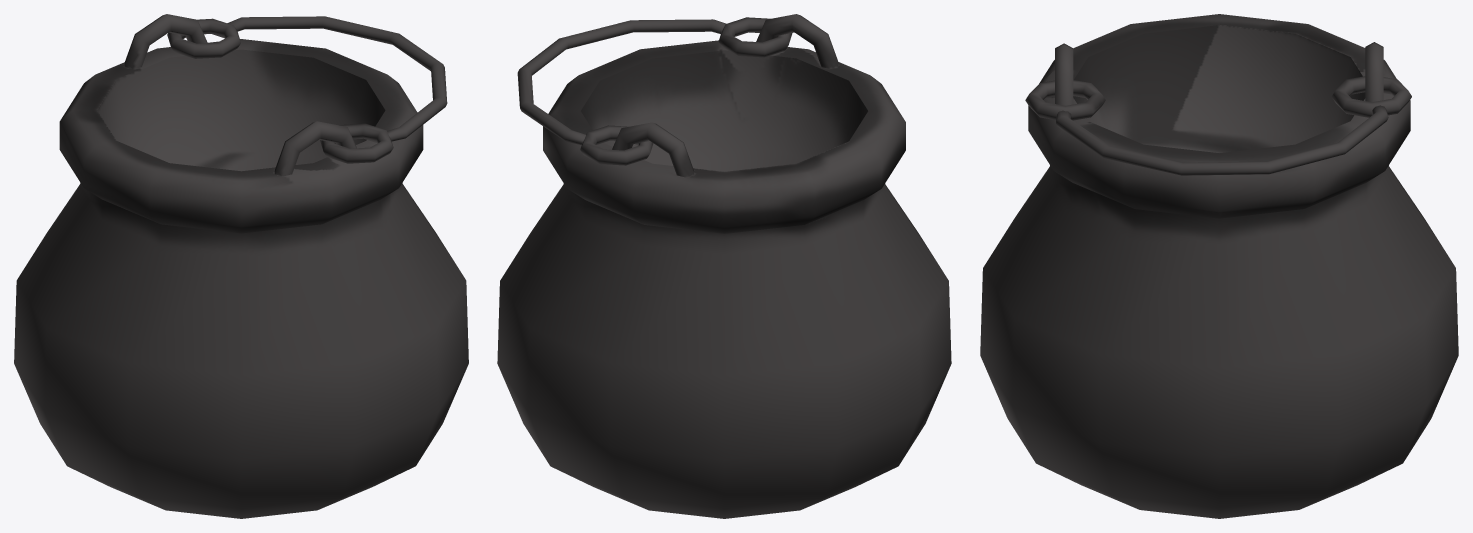
File: Boiler.fbx
3 views of the same model, side by side, from view 1: azimuth 30°, elevation 25°; view 2: azimuth 150°, elevation 25°; view 3: azimuth 270°, elevation 25° (orthographic). The views are drawn at different scales.
Parts seen in each view (by area): view 1: Circle.012; view 2: Circle.012; view 3: Circle.012.
Boxes of the visible parts, x1,y1,x2,y2 form: Circle.012: (14, 14, 468, 518); Circle.012: (497, 14, 951, 518); Circle.012: (980, 14, 1458, 518).
Bounding box in the file's own units: 0.8952 × 0.8408 × 0.8952.
